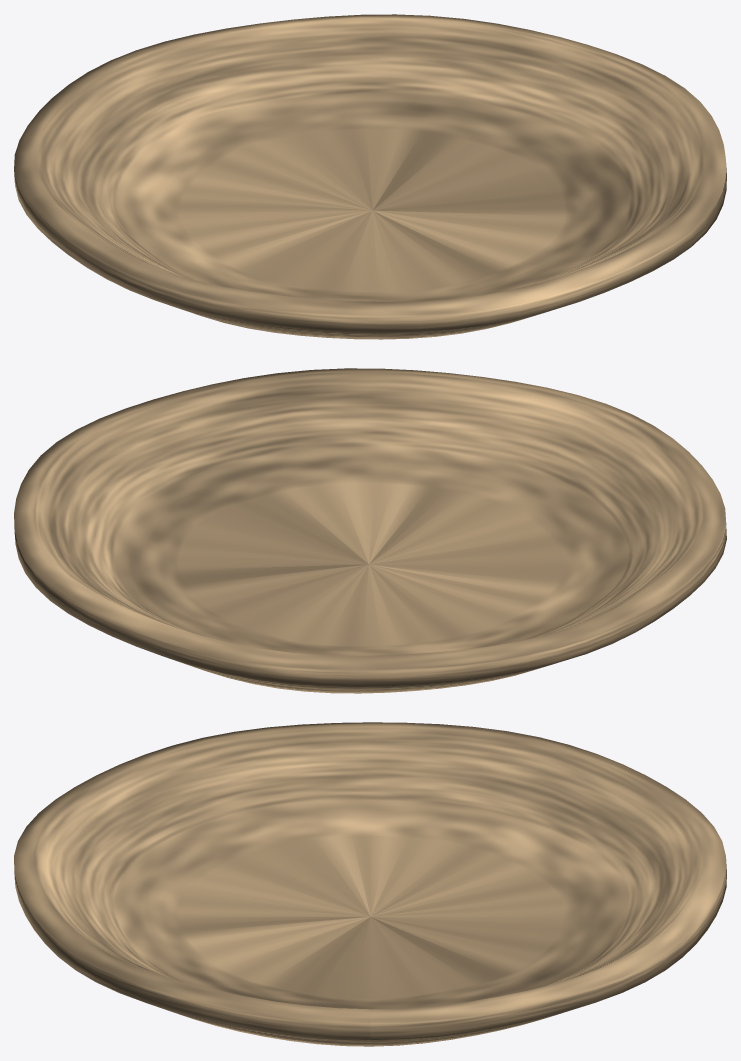
The model's file is plate_ceramic.glb.
3 renders of one model, top to bottom at view 1: azimuth 30°, elevation 25°; view 2: azimuth 150°, elevation 25°; view 3: azimuth 270°, elevation 25°, orthographic.
Visible parts, largest first — view 1: ceramic; view 2: ceramic; view 3: ceramic.
Part boxes in pixels (x1,y1,x2,y2): ceramic: [14, 14, 726, 339]; ceramic: [14, 368, 726, 693]; ceramic: [14, 722, 726, 1046].
Bounding box in the file's own units: 0.28 × 0.034 × 0.2806.
Materials: 1 (1 with a texture image).
